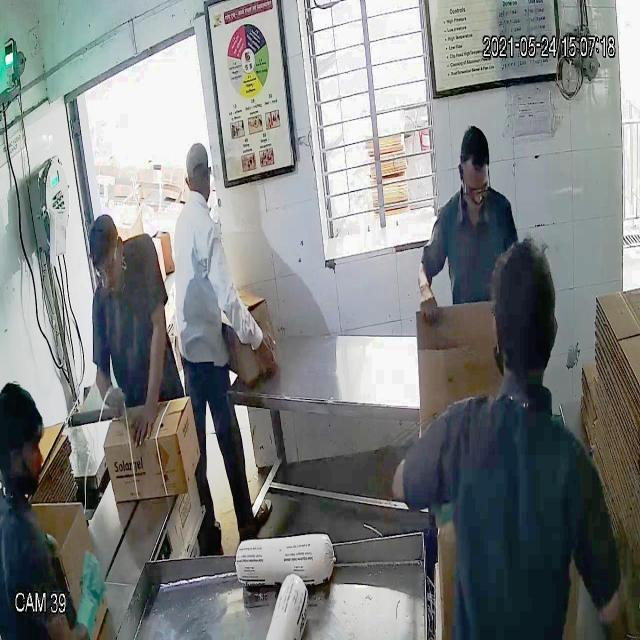glasses: (459, 173, 493, 204), (90, 250, 122, 282)
